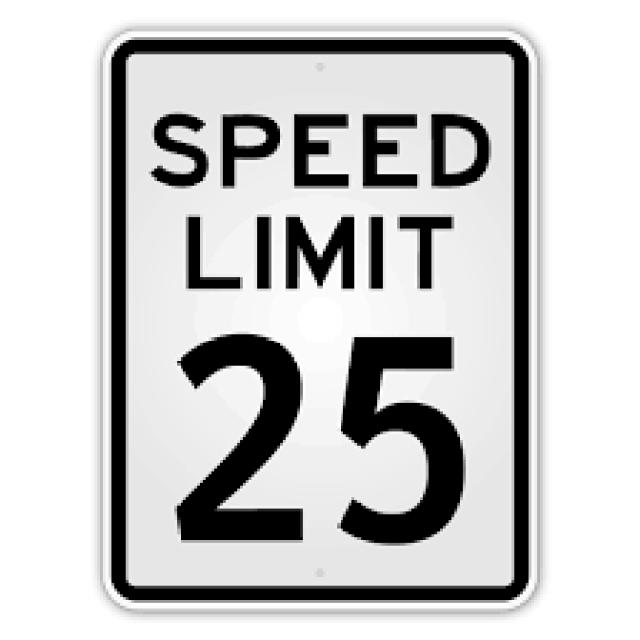speedLimit25: (98, 31, 536, 608)
